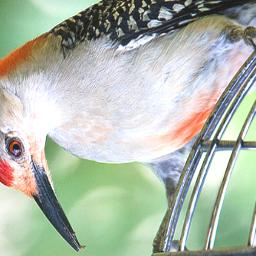Woodpecker: (0, 0, 256, 250)
